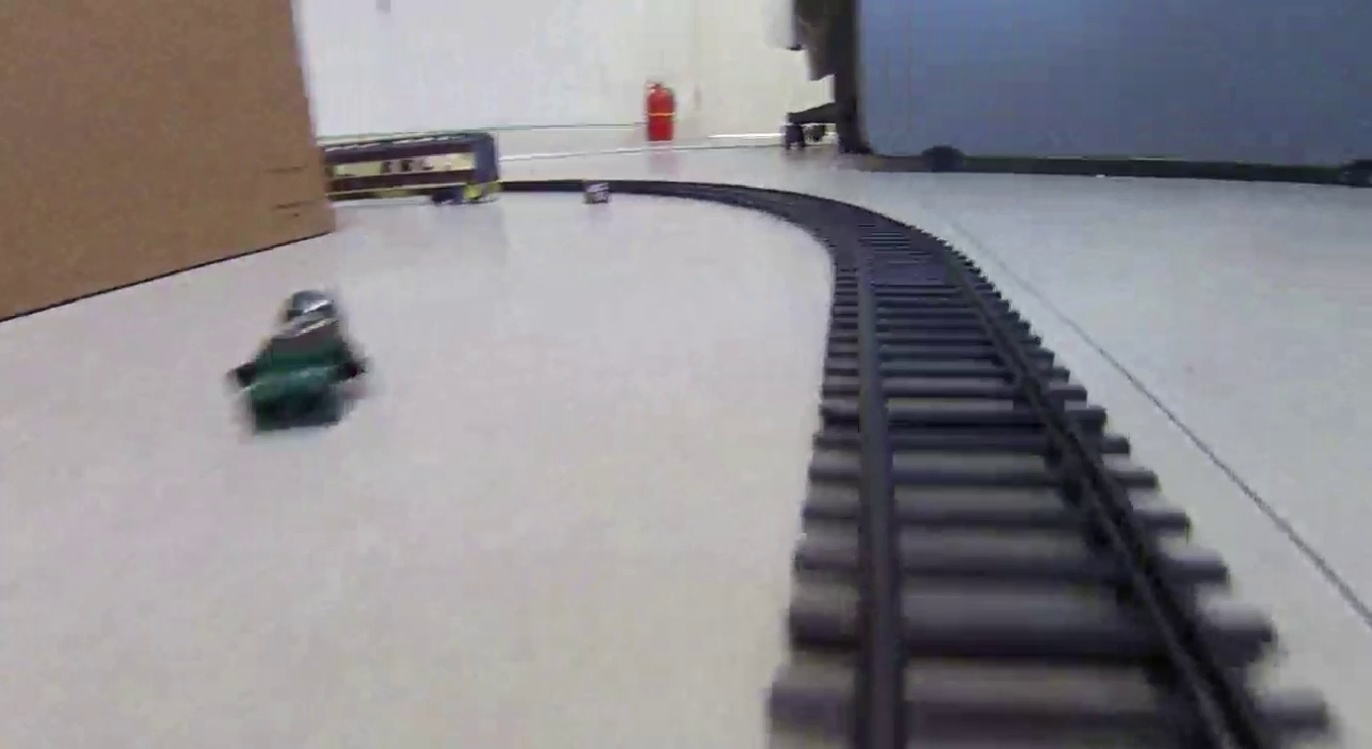people: (226, 287, 374, 431)
